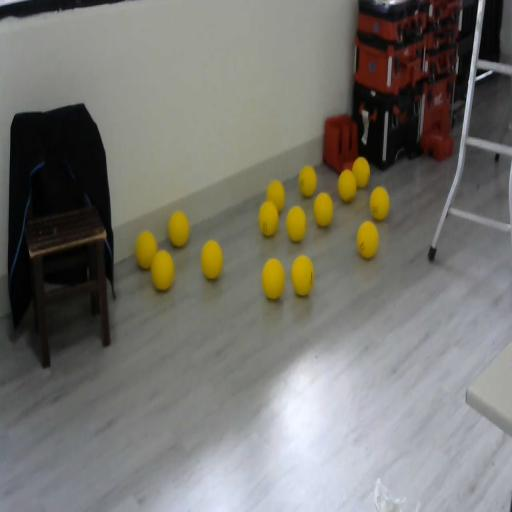FUEL: (261, 257, 286, 300), (150, 249, 175, 292), (290, 253, 315, 296), (200, 239, 224, 281), (134, 230, 158, 270), (356, 220, 380, 260), (168, 210, 190, 248), (312, 191, 334, 228), (286, 205, 306, 242), (369, 186, 390, 220), (266, 180, 286, 213), (338, 168, 356, 202), (298, 165, 316, 197), (352, 156, 370, 188)
